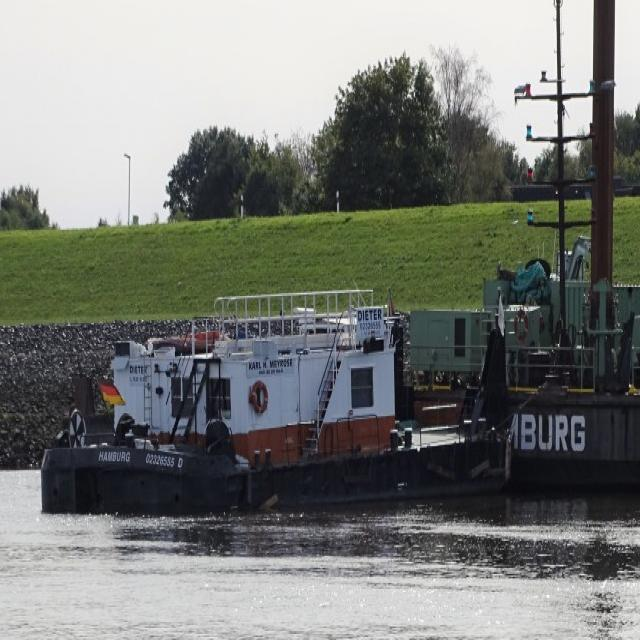tugboat: (39, 283, 519, 533)
